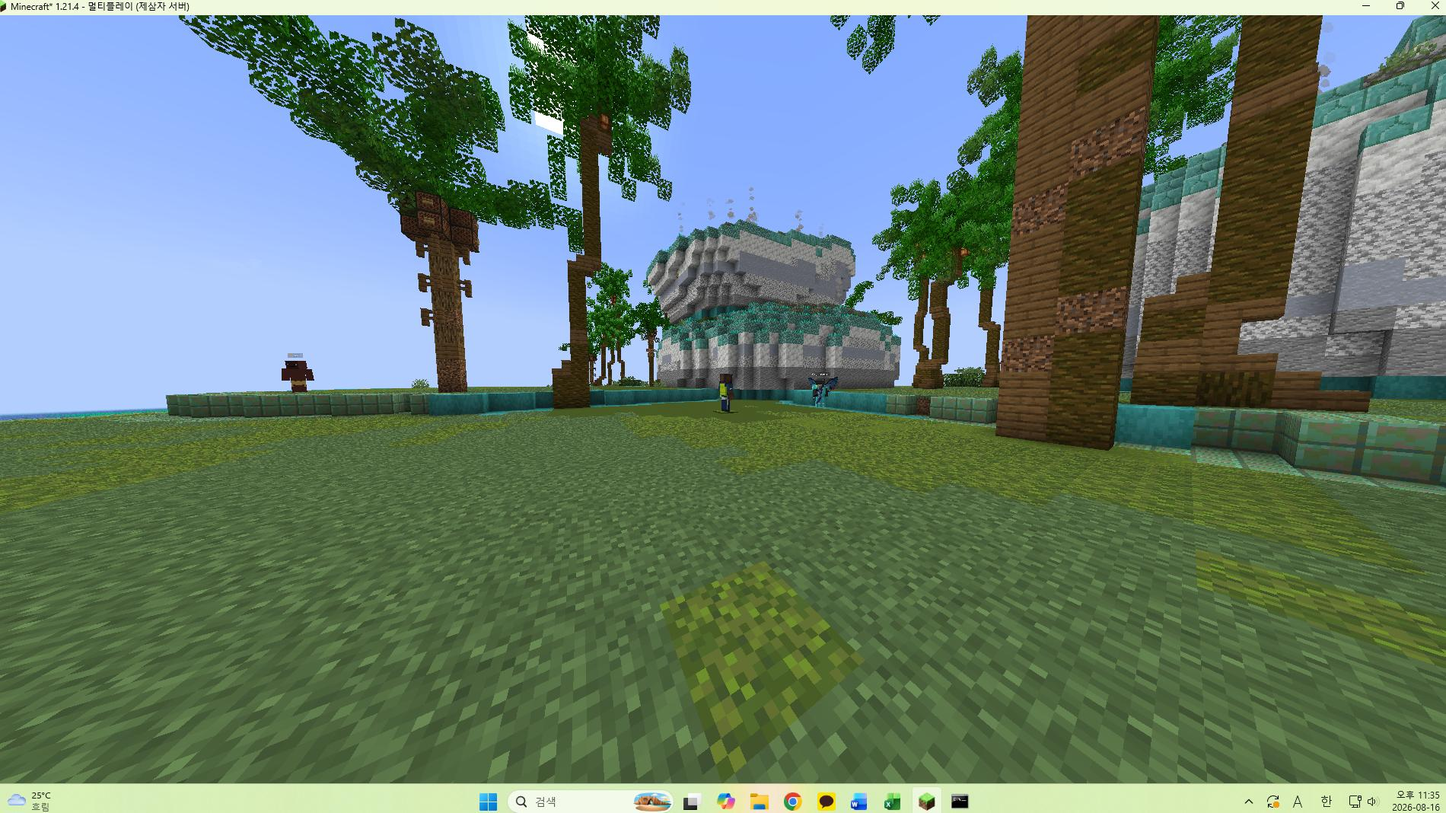Guardian: (718, 373, 733, 413)
